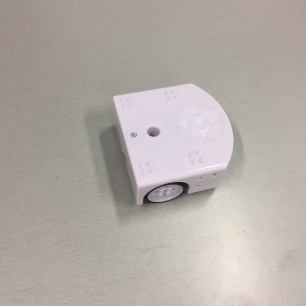thymio: (105, 79, 239, 209)
